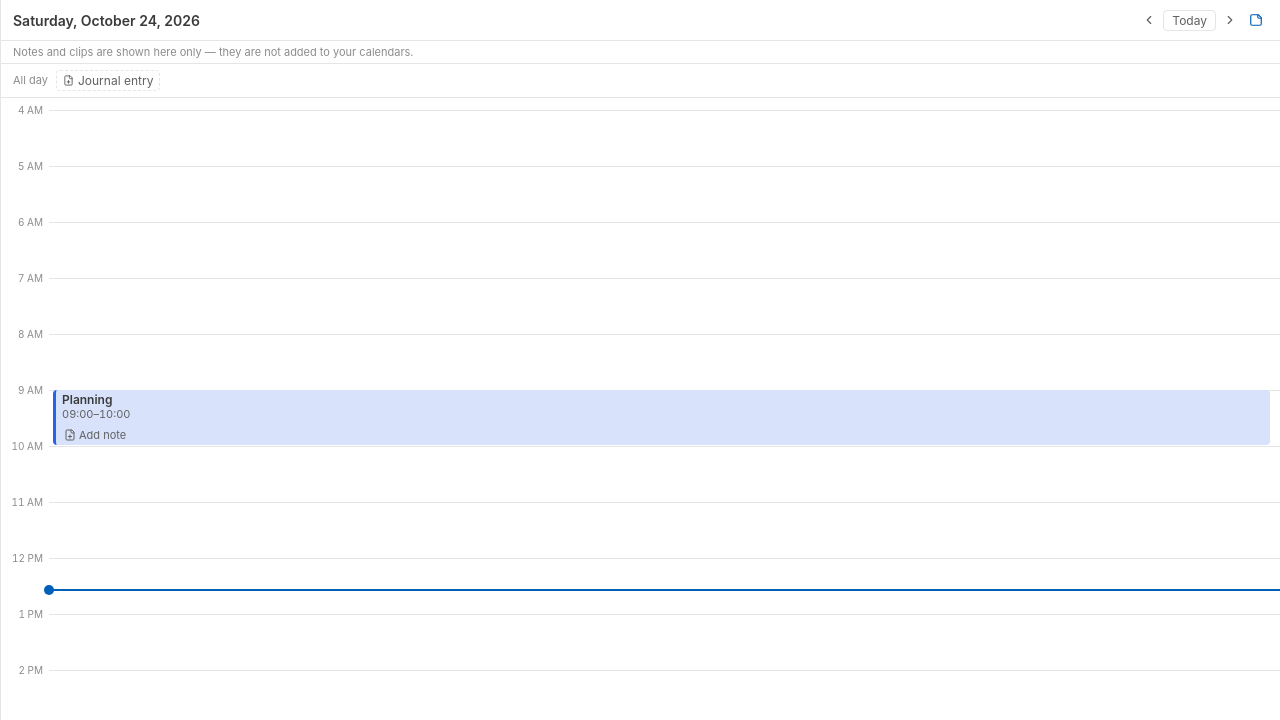
Test case: DayTimeline › clicking a block shows its details
(page scrolled)
Click the button "Planning 09:00–10:00" at point(87, 400), box [56,390,1270,427]
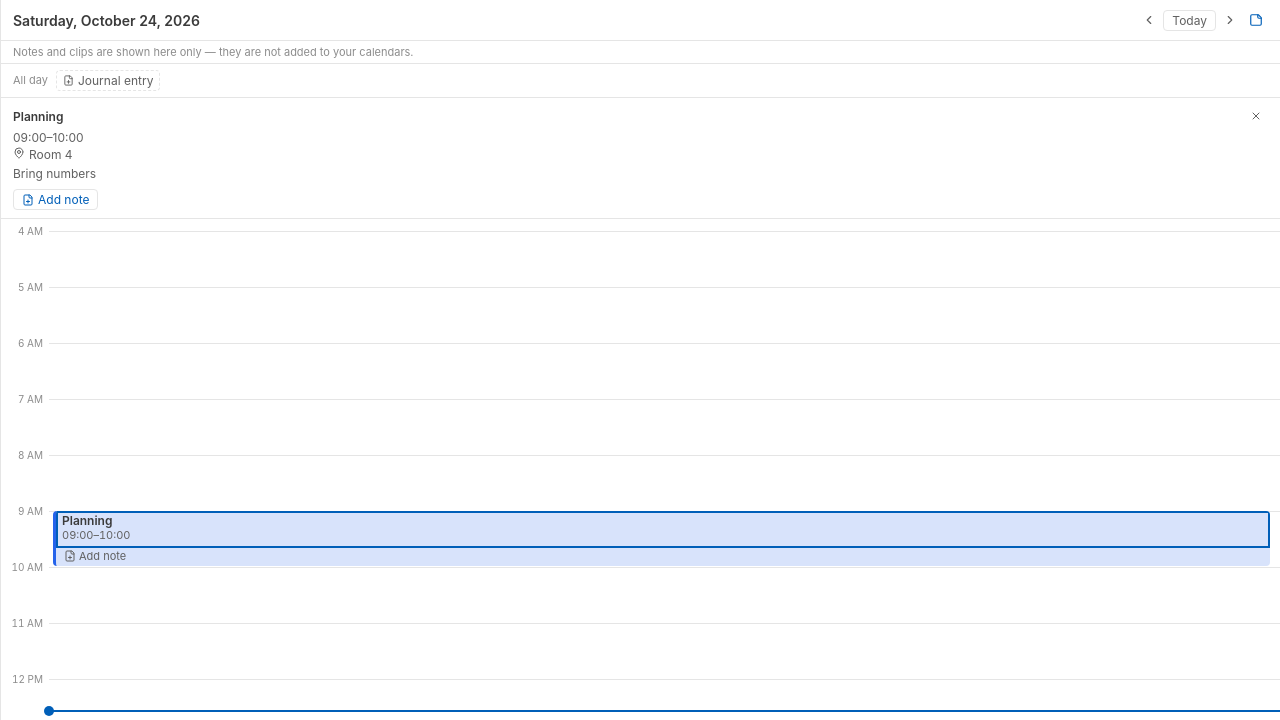
Result: the element named "Event details" shows "09:00–10:00" at [13,130,84,145]
Result: the element named "Event details" shows "Room 4" at [29,147,73,162]
Result: the element named "Event details" shows "Bring numbers" at [13,166,96,181]
